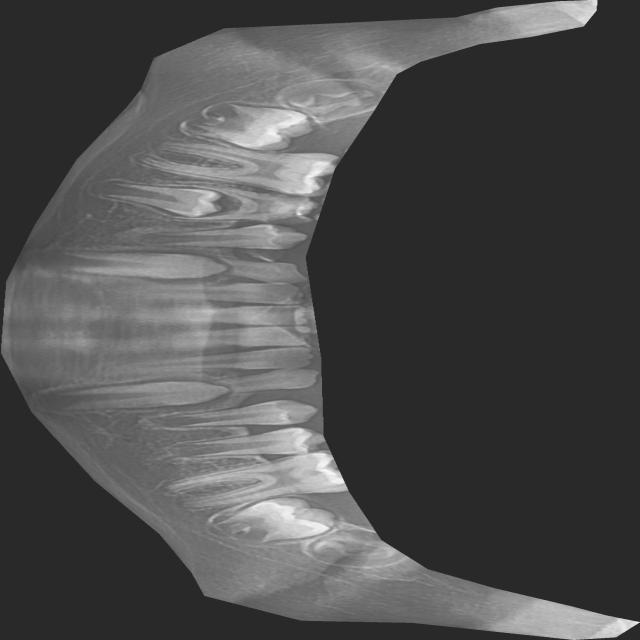mandibulamandibula: (0, 0, 639, 640)
